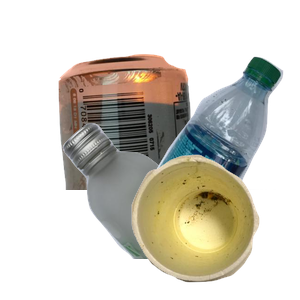glass: (60, 120, 300, 300)
metal: (56, 52, 242, 232)
plastic: (142, 54, 300, 234)
trash: (129, 152, 300, 300)
